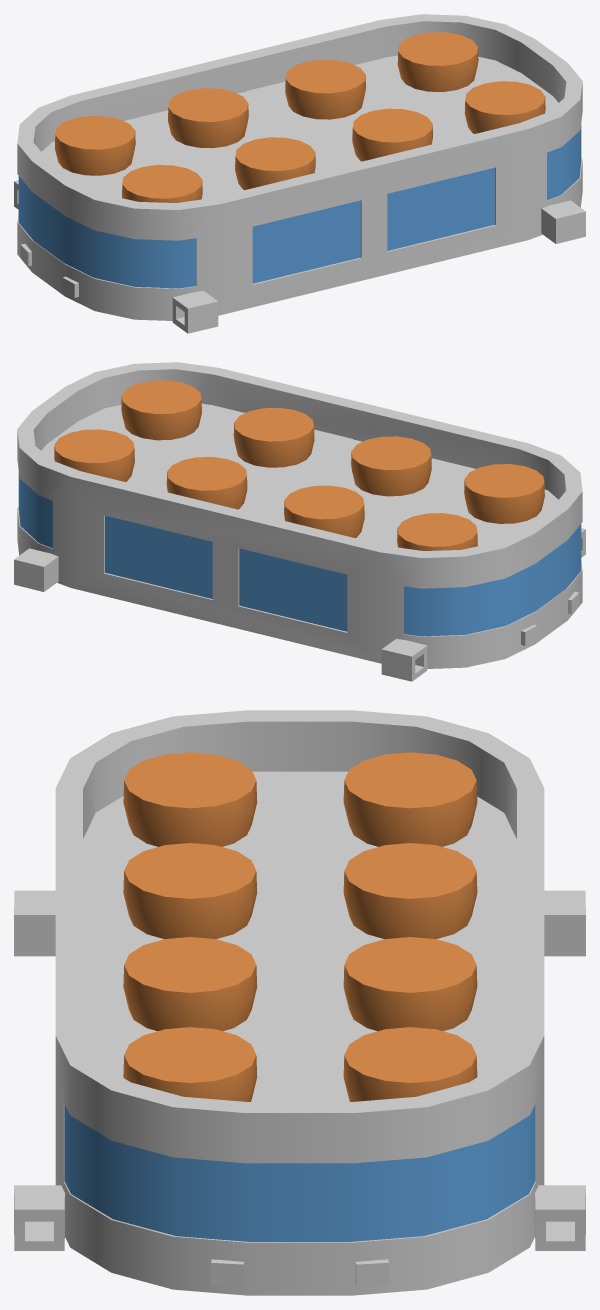
The picture shows the model from 3 angles, top to bottom: view 1: azimuth 30°, elevation 25°; view 2: azimuth 150°, elevation 25°; view 3: azimuth 270°, elevation 25°; orthographic projection. The views are drawn at different scales.
Parts seen in each view (by area): view 1: Cube.028; view 2: Cube.028; view 3: Cube.028.
Boxes of the visible parts, box(x1,y1,x2,y2) form: Cube.028: box(14, 14, 585, 333); Cube.028: box(14, 362, 585, 681); Cube.028: box(14, 710, 585, 1295).
Size of the model in its own units: 27.6 by 5.76 by 16.36.
